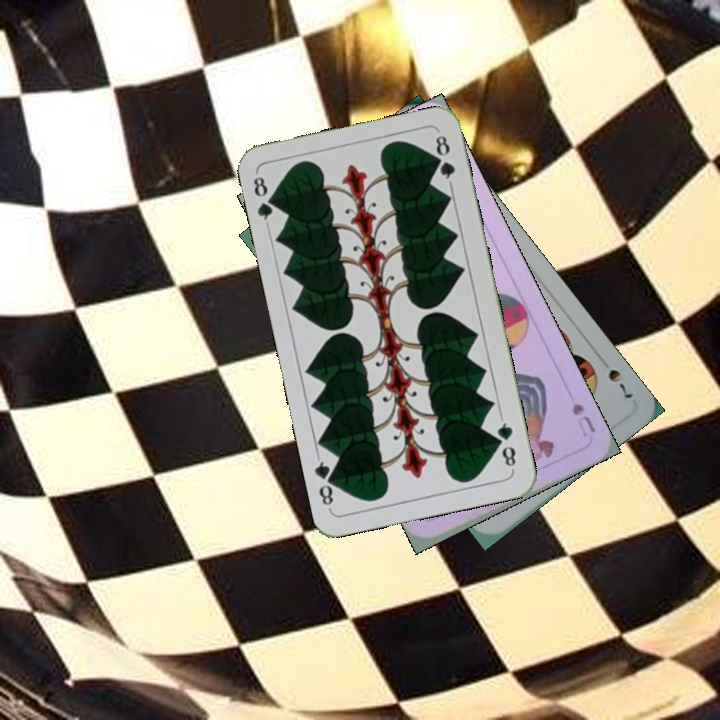G8: (249, 172, 281, 229), (492, 414, 519, 473)
S7: (595, 353, 635, 404)
SU: (567, 399, 599, 439)
